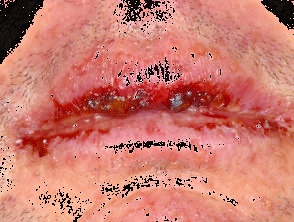SJS-TEN: (0, 22, 294, 174)
